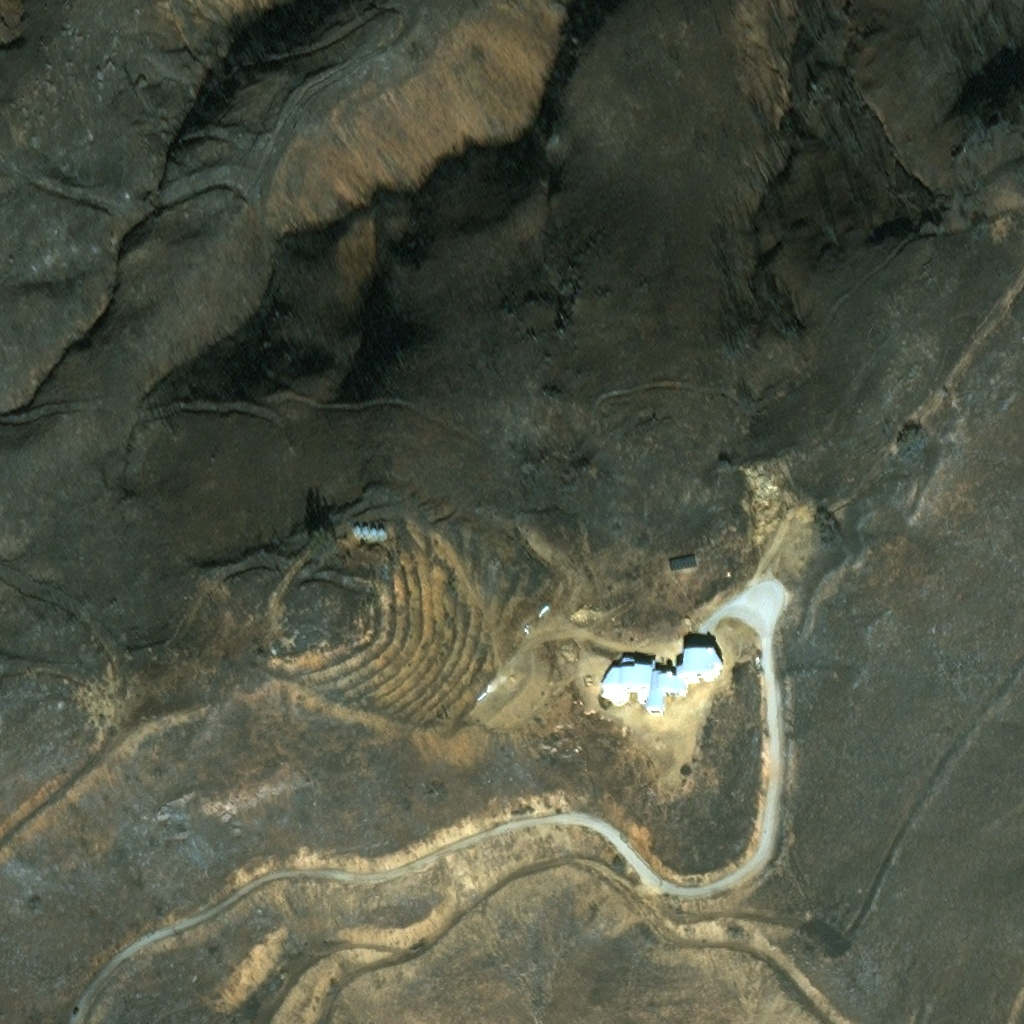0 no-damage: (597, 649, 723, 716), (377, 530, 385, 540), (368, 529, 376, 539), (350, 527, 358, 537), (359, 529, 367, 538)
1 minor-damage: (663, 555, 694, 572)
